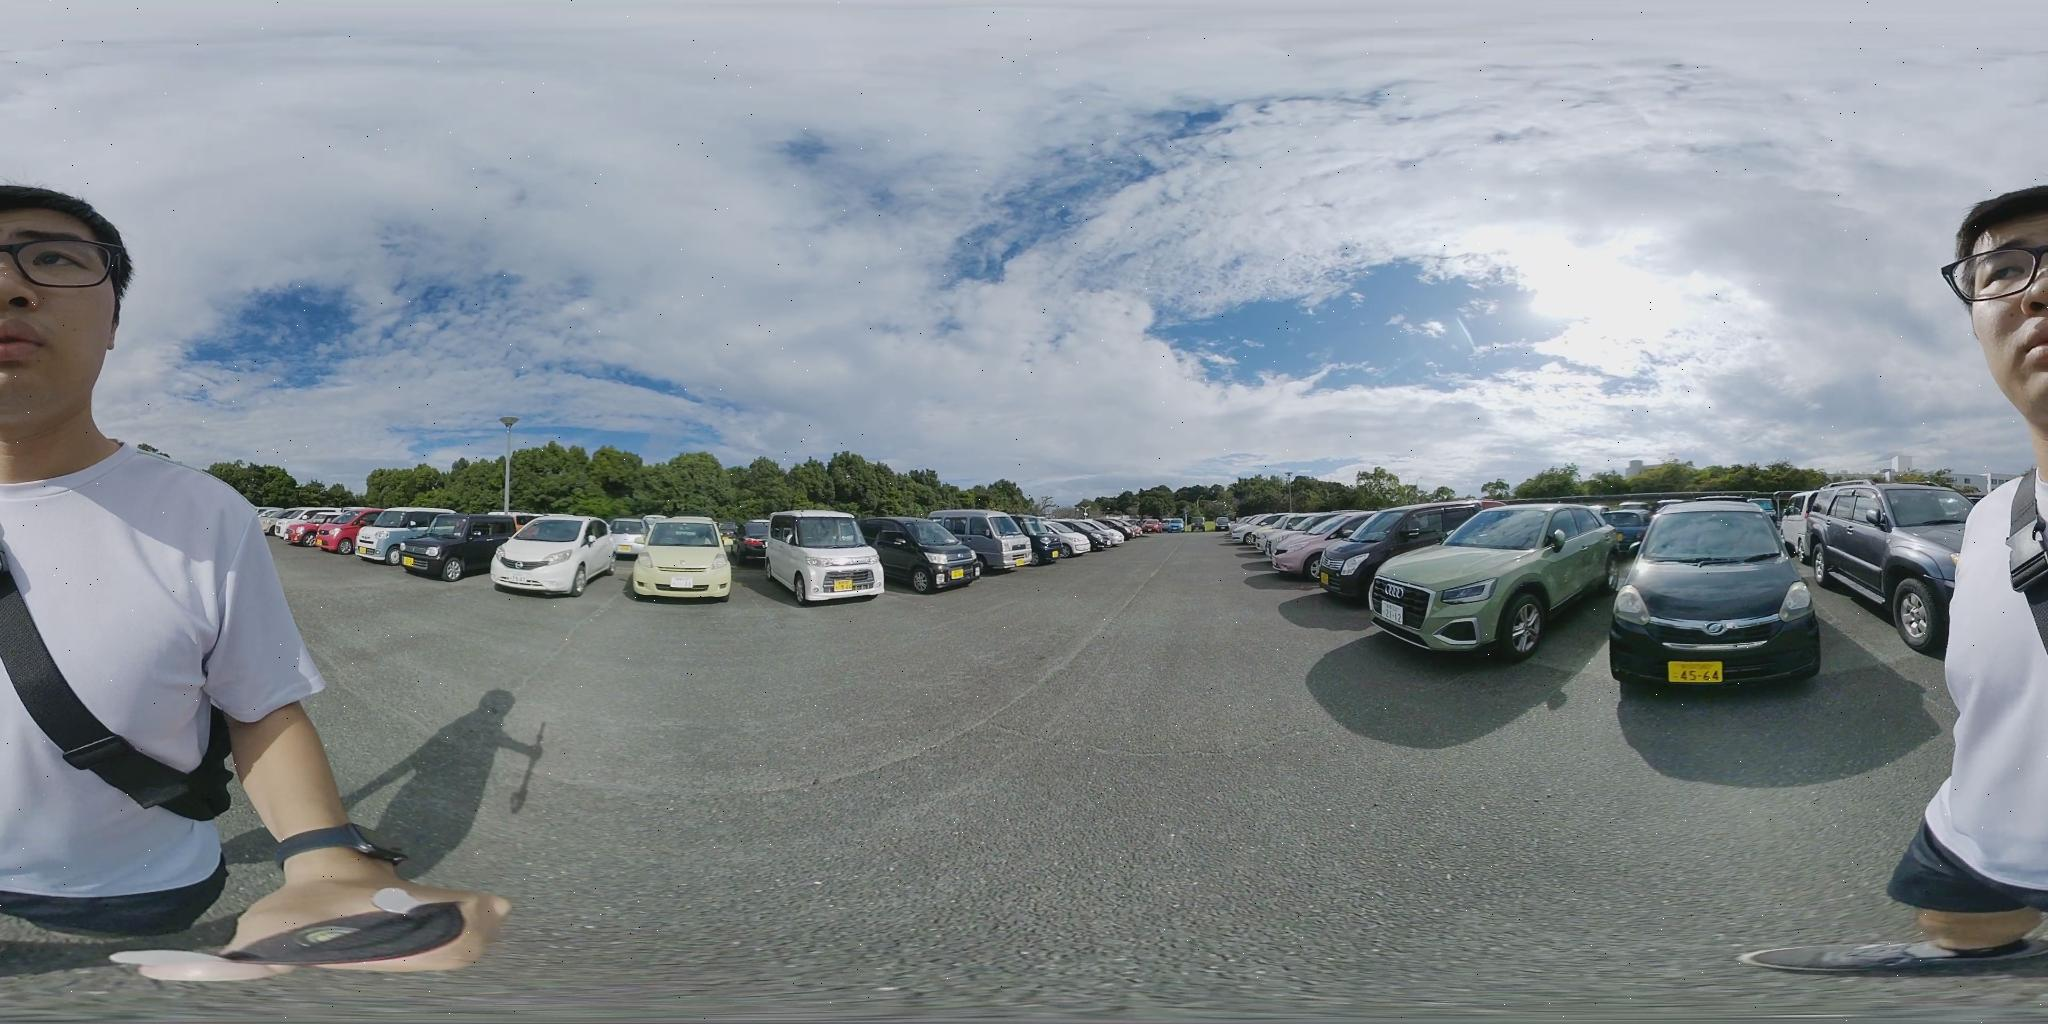car: (1608, 498, 1822, 692), (1357, 508, 1629, 661), (1782, 486, 1974, 657), (1302, 505, 1503, 601), (759, 511, 897, 603), (492, 516, 624, 597), (1273, 509, 1425, 579), (397, 515, 543, 580), (627, 519, 738, 603), (859, 519, 986, 592), (357, 505, 474, 567), (929, 512, 1040, 569), (1260, 513, 1368, 572), (276, 512, 357, 550), (1028, 519, 1101, 559), (1051, 520, 1126, 554), (1089, 519, 1131, 547)
